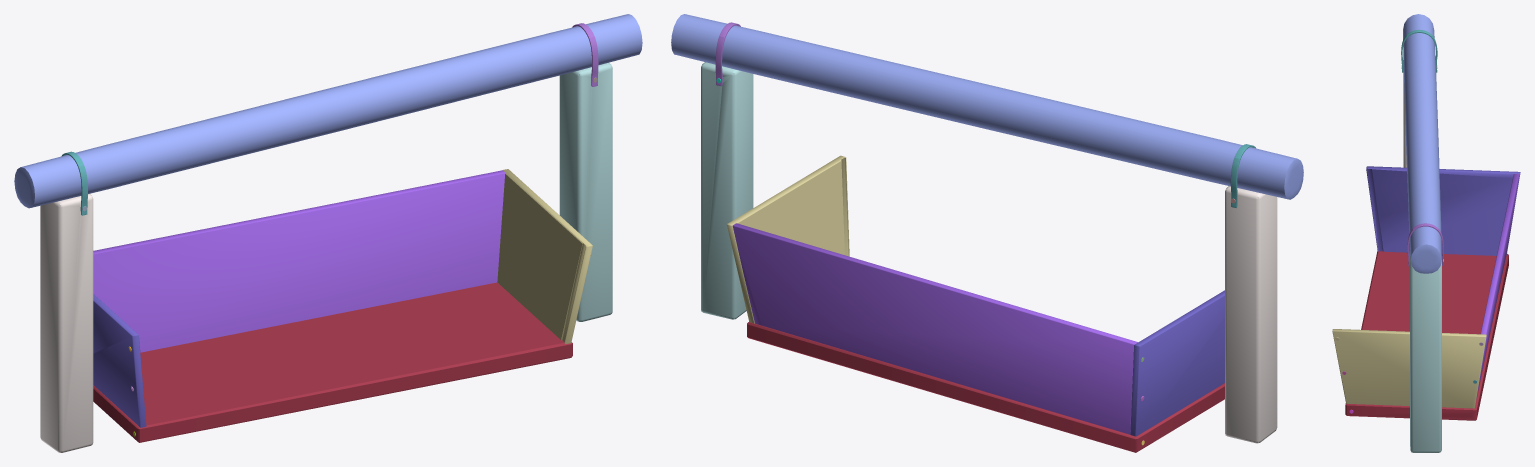
3 renders of one model, left to right at view 1: azimuth 30°, elevation 25°; view 2: azimuth 150°, elevation 25°; view 3: azimuth 270°, elevation 25°, orthographic. The views are drawn at different scales.
Parts seen in each view (by area): view 1: horseFeederHP_wood_0.008, split_parent_7, horseFeederHP_wood_0.040, horseFeederHP_wood_0.046, horseFeederHP_wood_0.052, horseFeederHP_wood_0, horseFeederHP_wood_0.016; view 2: horseFeederHP_wood_0.008, horseFeederHP_wood_0.040, horseFeederHP_wood_0.046, horseFeederHP_wood_0.052, horseFeederHP_wood_0.016, split_parent_7, horseFeederHP_wood_0; view 3: split_parent_7, horseFeederHP_wood_0.016, horseFeederHP_wood_0, horseFeederHP_wood_0.040, horseFeederHP_wood_0.052, horseFeederHP_wood_0.008, split_parent_0, split_parent_3, horseFeederHP_wood_0.046.
Part boxes in pixels (box(x1,y1,x2,y2)): horseFeederHP_wood_0.008: box(93, 170, 505, 352); split_parent_7: box(93, 282, 572, 442); horseFeederHP_wood_0.040: box(14, 14, 642, 208); horseFeederHP_wood_0.046: box(40, 194, 93, 452); horseFeederHP_wood_0.052: box(559, 62, 612, 321); horseFeederHP_wood_0: box(497, 169, 592, 344); horseFeederHP_wood_0.016: box(93, 294, 146, 427); horseFeederHP_wood_0.008: box(732, 223, 1137, 434); horseFeederHP_wood_0.040: box(671, 14, 1303, 199); horseFeederHP_wood_0.046: box(1225, 186, 1277, 443); horseFeederHP_wood_0.052: box(701, 62, 753, 319); horseFeederHP_wood_0.016: box(1130, 290, 1224, 436); split_parent_7: box(747, 322, 1224, 452); horseFeederHP_wood_0: box(727, 155, 849, 323); split_parent_7: box(1345, 251, 1508, 420); horseFeederHP_wood_0.016: box(1366, 166, 1520, 255); horseFeederHP_wood_0: box(1332, 329, 1486, 408); horseFeederHP_wood_0.040: box(1403, 14, 1441, 273); horseFeederHP_wood_0.052: box(1410, 251, 1441, 452); horseFeederHP_wood_0.008: box(1476, 174, 1519, 397); split_parent_0: box(1407, 223, 1443, 266); split_parent_3: box(1401, 29, 1437, 72); horseFeederHP_wood_0.046: box(1403, 62, 1406, 167).
Size of the model in its own units: 1 by 0.4478 by 0.344.
